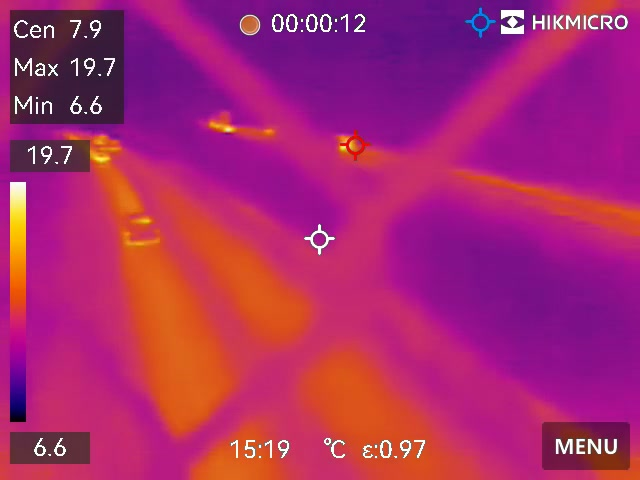vehicle: (118, 210, 164, 248)
